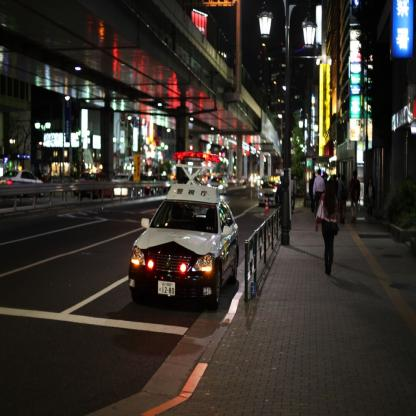Car: (128, 181, 237, 316), (259, 178, 282, 209), (1, 170, 42, 185)
